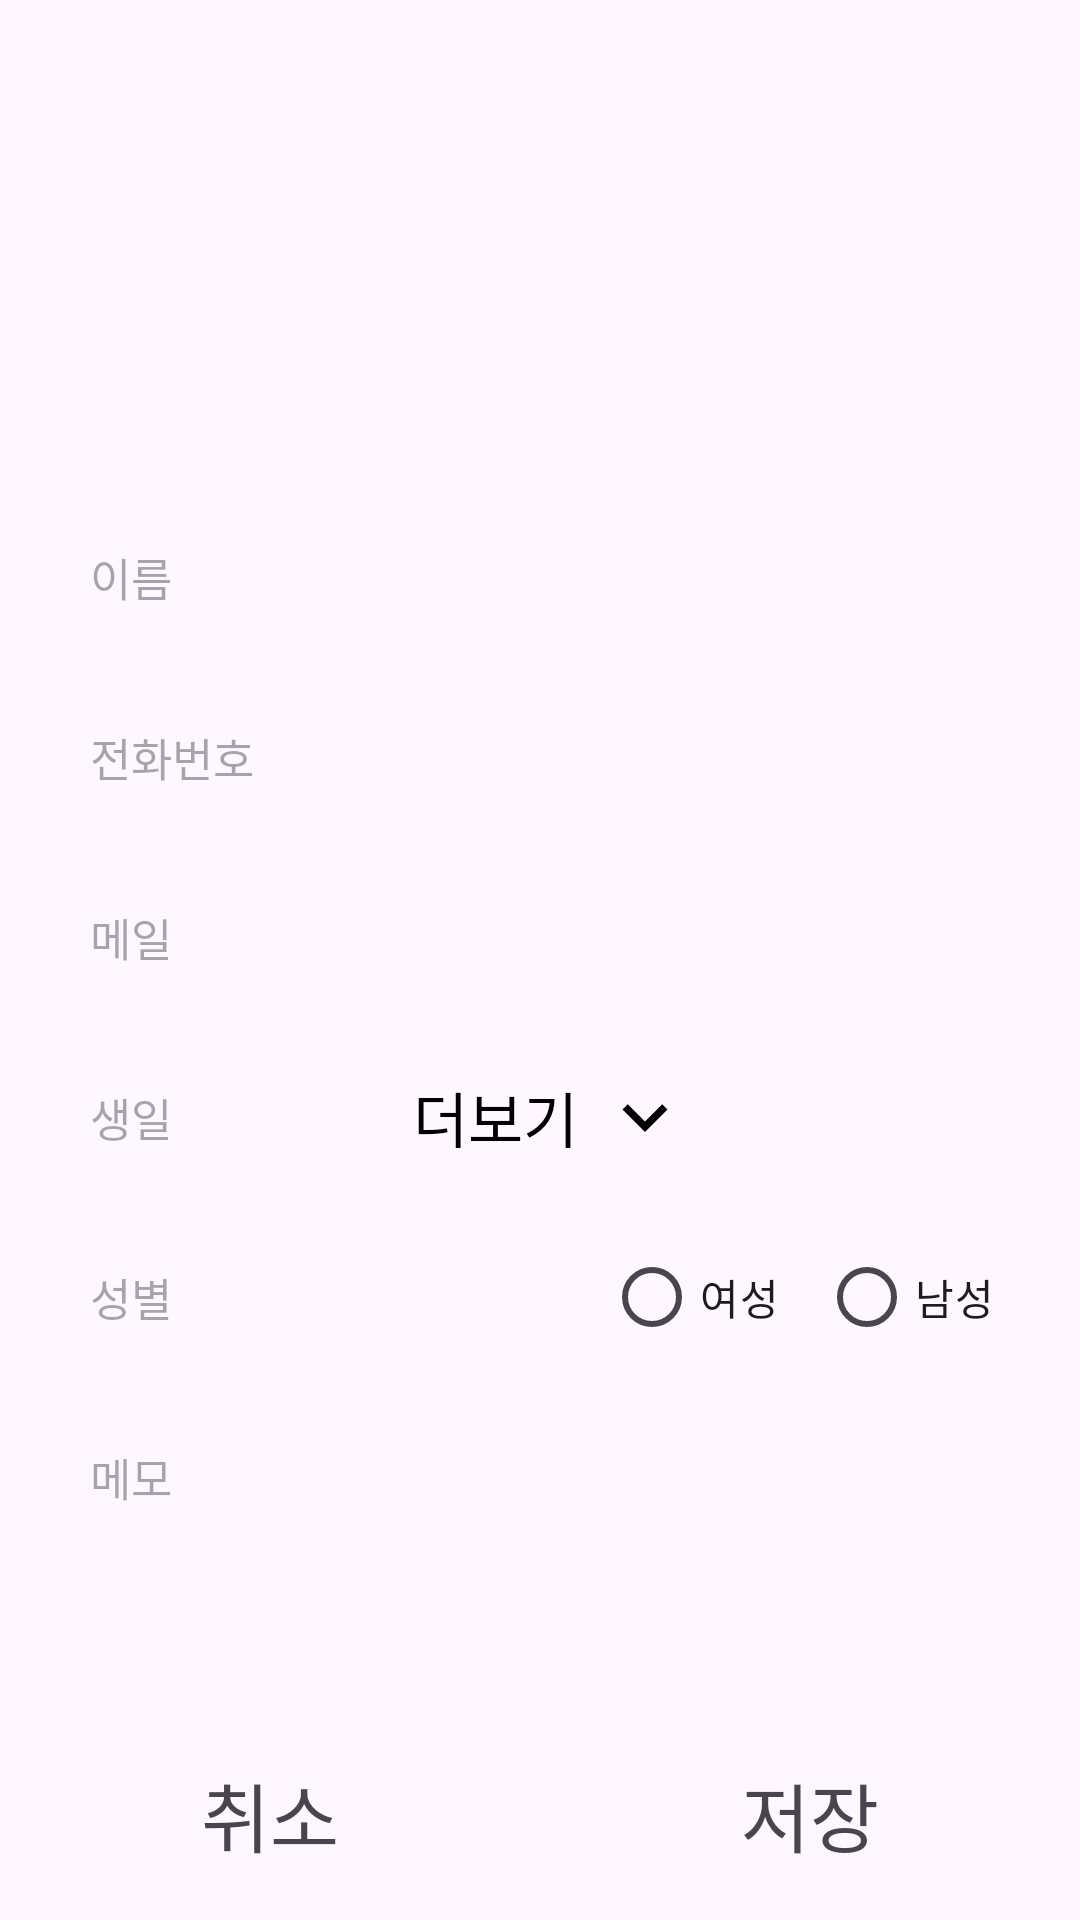

Where to tap for icons on this 1080w x 1920h app screen, as (x,y):
keyboard arrow down: (645,1118)
